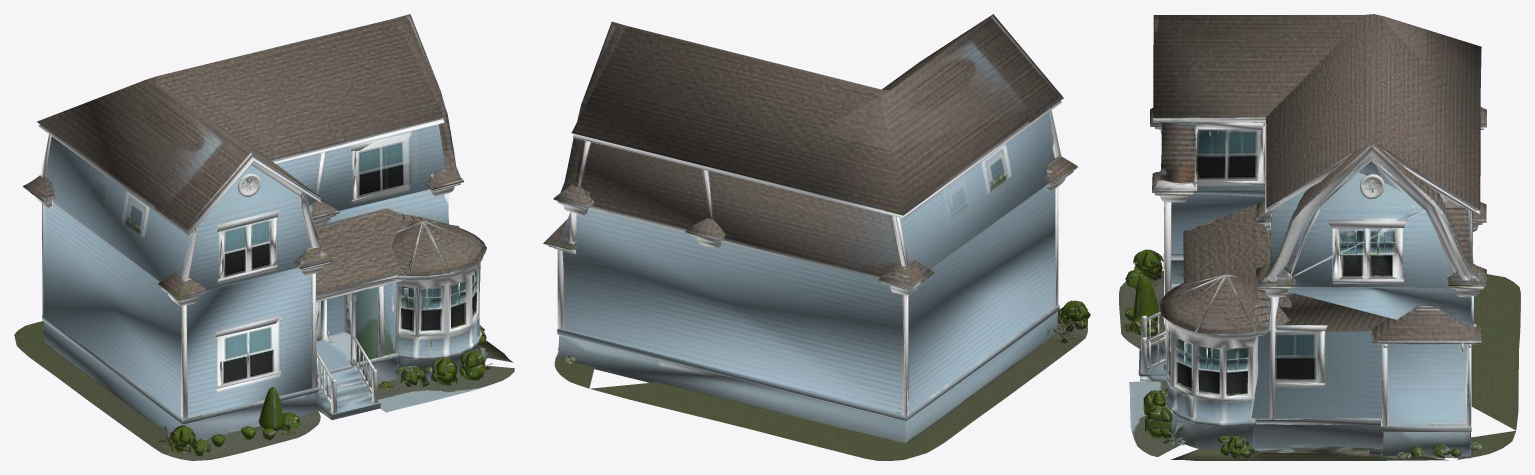
File: bld_house_two_story.glb
3 renders of one model, left to right at view 1: azimuth 30°, elevation 25°; view 2: azimuth 150°, elevation 25°; view 3: azimuth 270°, elevation 25°, orthographic. The views are drawn at different scales.
Bounding box in the file's own units: 0.9487 × 0.7158 × 0.8418.
Materials: 1 (1 with a texture image).
